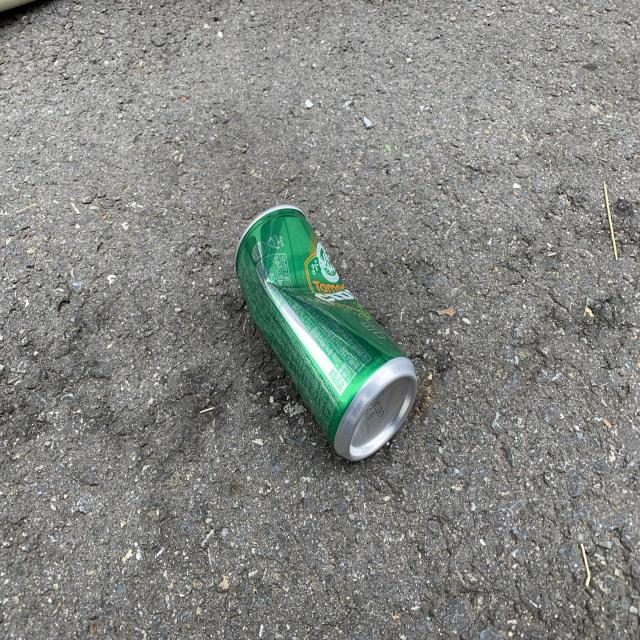can: (235, 204, 418, 461)
